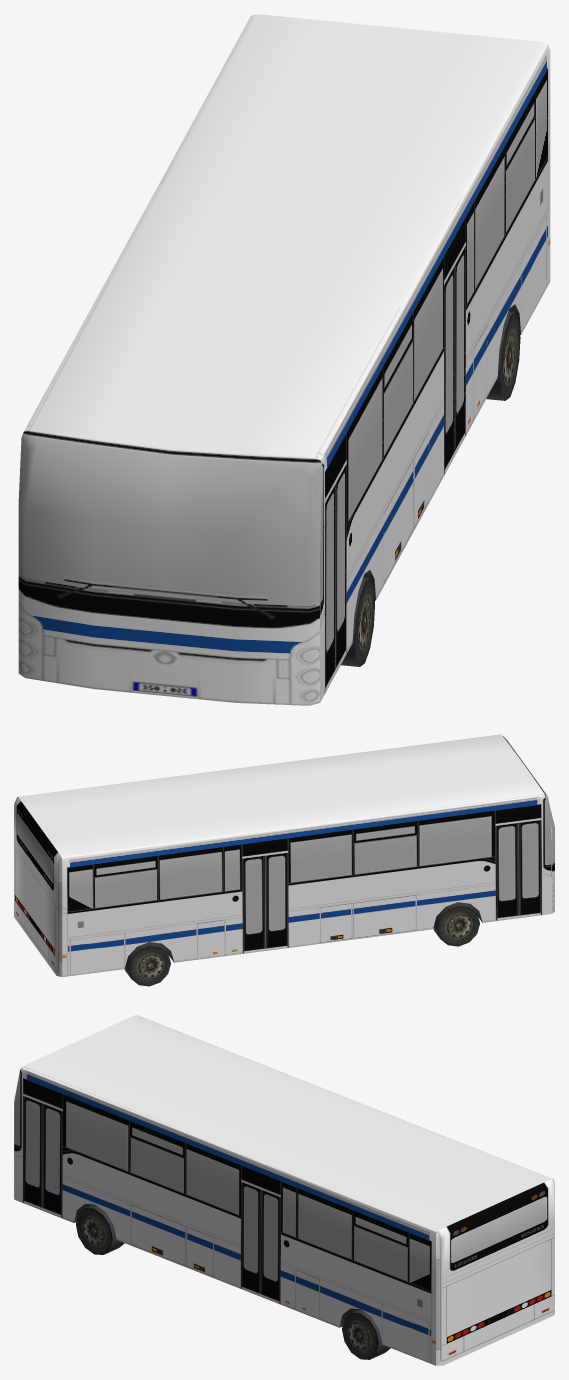
Rendered from bus1.dae.
3 views of the same model, one above another, from view 1: azimuth 30°, elevation 25°; view 2: azimuth 150°, elevation 25°; view 3: azimuth 270°, elevation 25° (orthographic). The views are drawn at different scales.
Visible parts, largest first — view 1: bus1; view 2: bus1; view 3: bus1.
Boxes of the visible parts, x1,y1,x2,y2 form: bus1: [18, 14, 550, 705]; bus1: [14, 734, 554, 986]; bus1: [14, 1015, 554, 1365].
Bounding box in the file's own units: 12.13 × 4.04 × 12.61.
1 material, 1 textured.
